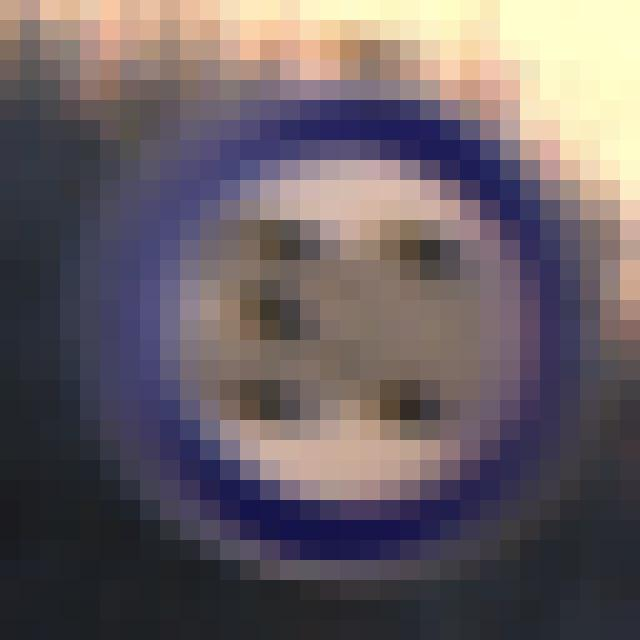SPEED-LIMIT-80: (82, 97, 584, 571)
